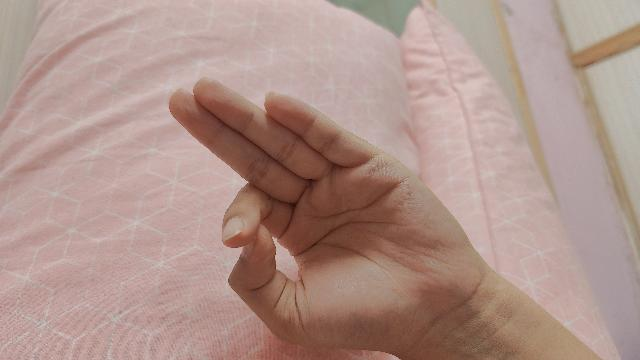aral: (166, 79, 603, 360)
